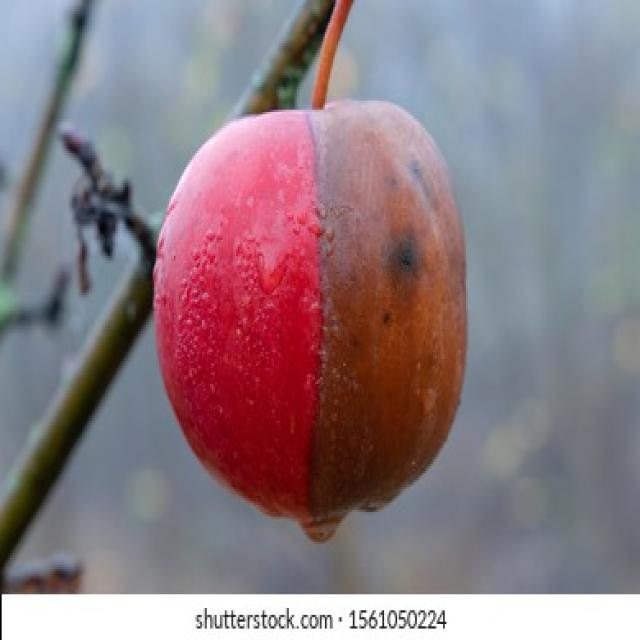apple_fruit: (144, 51, 488, 548)
